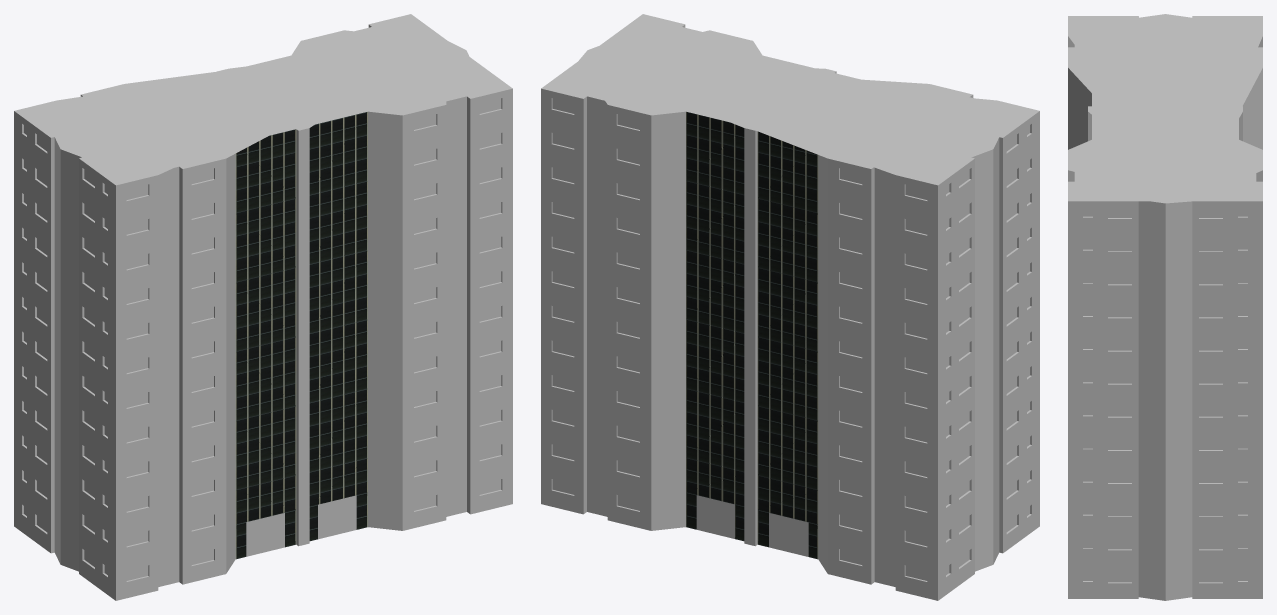
The picture shows the model from 3 angles, left to right: view 1: azimuth 30°, elevation 25°; view 2: azimuth 150°, elevation 25°; view 3: azimuth 270°, elevation 25°; orthographic projection. The views are drawn at different scales.
Visible parts, largest first — view 1: BR-030; view 2: BR-030; view 3: BR-030.
Part boxes in pixels (bbox=[...]): BR-030: bbox=[14, 14, 512, 600]; BR-030: bbox=[541, 14, 1039, 600]; BR-030: bbox=[1068, 14, 1262, 600].
Size of what is drawn, in the model's own units: 36.8 by 36 by 16.
